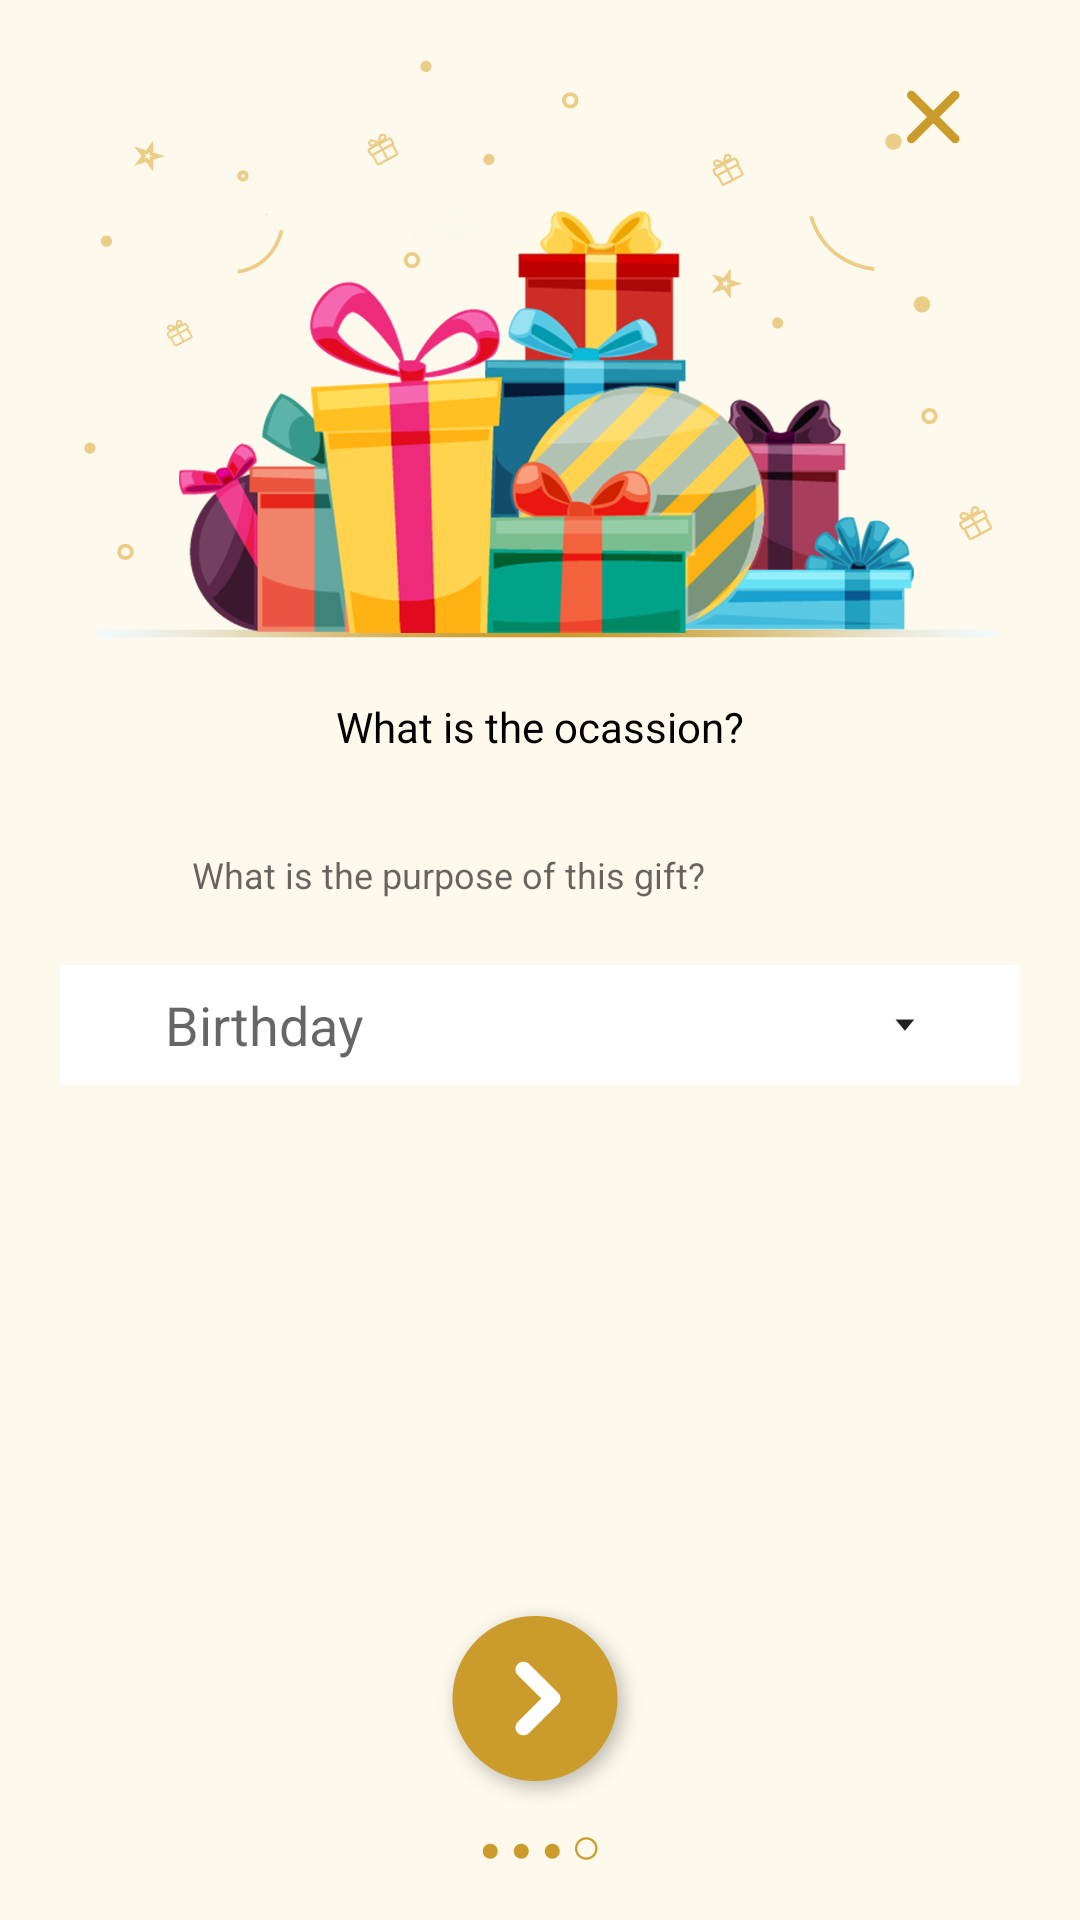

Icon bounding boxes for this 1080px x 1920px phone screenshot, format (x1, y1, x2, y2):
continuenext: (452, 1616, 625, 1790)
question cross: (907, 90, 960, 144)
